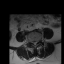CCS_stenosis: (34, 40, 35, 46)
LFS_stenosis: (37, 39, 38, 43)
LLS_normal: (35, 40, 37, 45)
RFS_stenosis: (31, 39, 33, 45)
RLS_stenosis: (33, 40, 34, 45)
